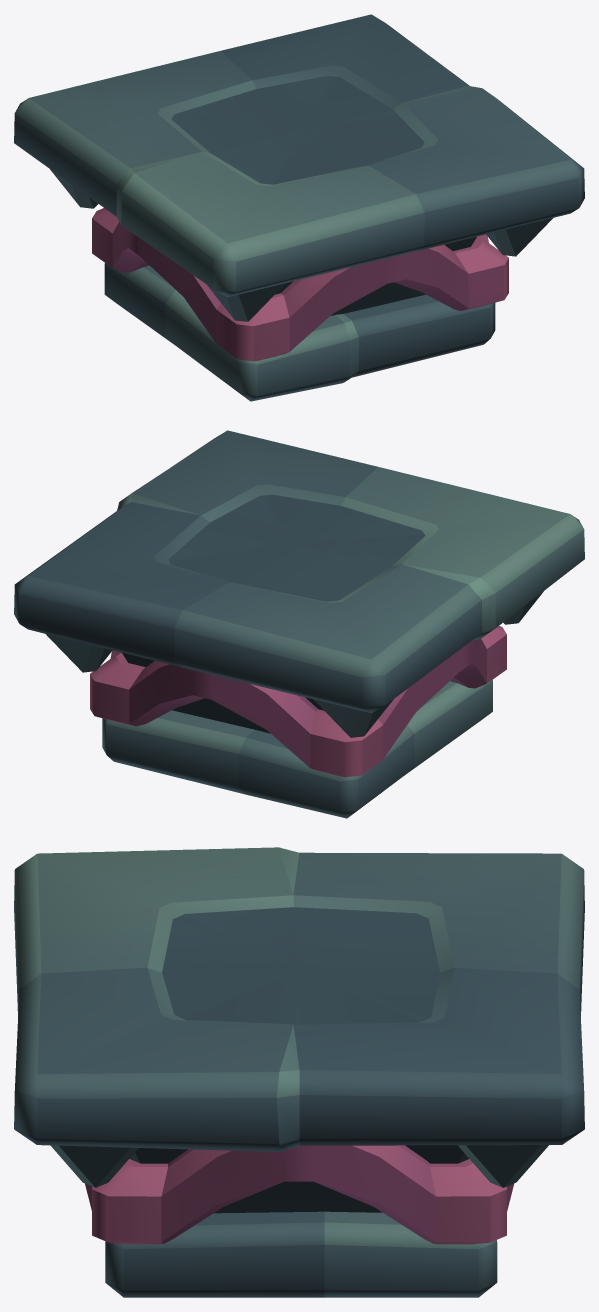
The model's file is pillar_fat_top.fbx.
3 renders of one model, top to bottom at view 1: azimuth 30°, elevation 25°; view 2: azimuth 150°, elevation 25°; view 3: azimuth 270°, elevation 25°, orthographic. The views are drawn at different scales.
Visible parts, largest first — view 1: pillar_fat_top; view 2: pillar_fat_top; view 3: pillar_fat_top.
Boxes of the visible parts, left/top/right/bottom form: pillar_fat_top: left=14, top=14, right=584, bottom=401; pillar_fat_top: left=14, top=430, right=584, bottom=818; pillar_fat_top: left=14, top=847, right=584, bottom=1297.
Size of the model in its own units: 211 by 109 by 210.
